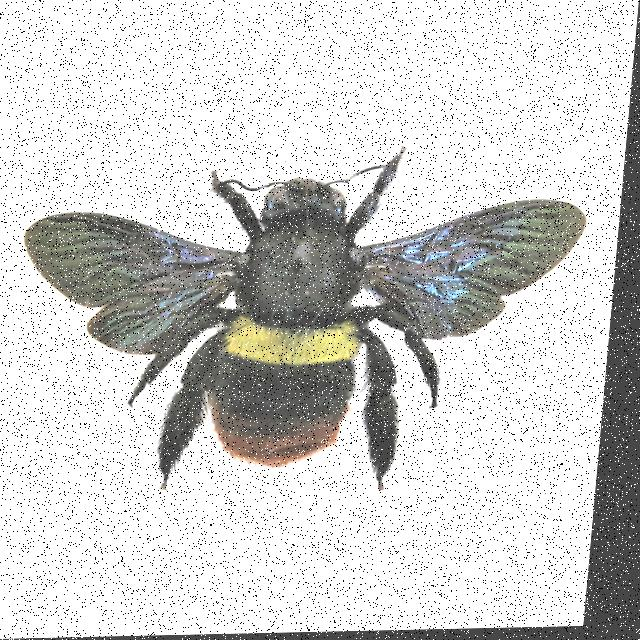Xylocopa: (7, 138, 601, 507)
